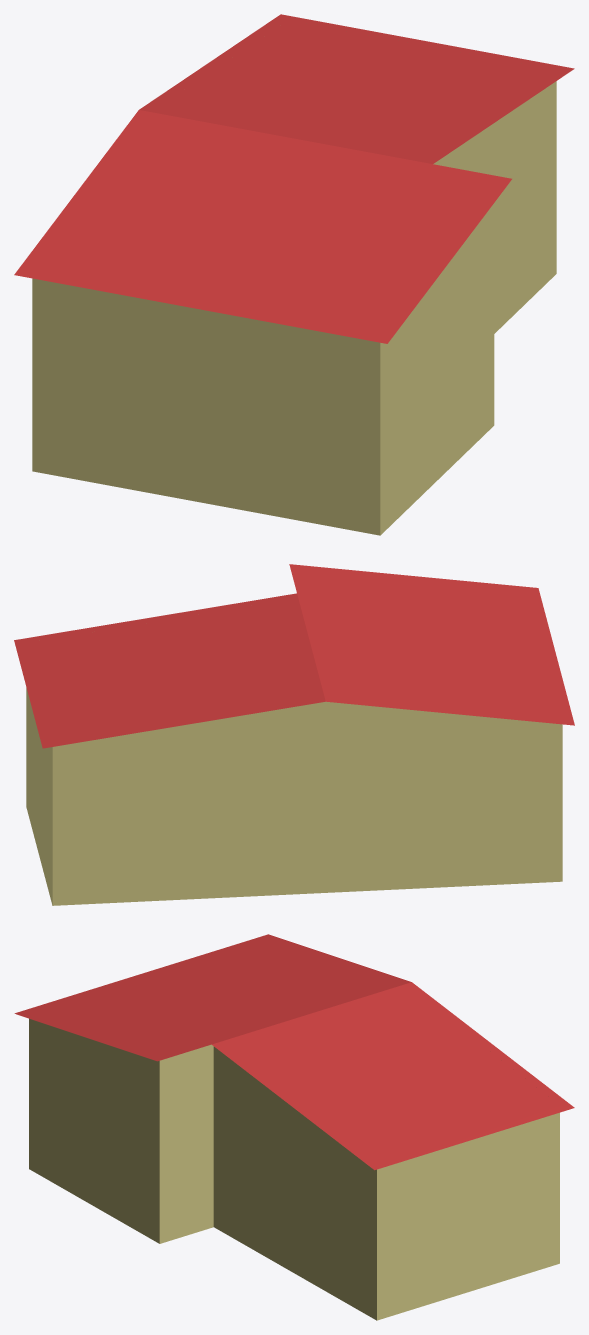
3 views of the same model, one above another, from view 1: azimuth 30°, elevation 25°; view 2: azimuth 150°, elevation 25°; view 3: azimuth 270°, elevation 25° (orthographic). The views are drawn at different scales.
Size of the model in its own units: 26.26 by 26.14 by 9.71.
